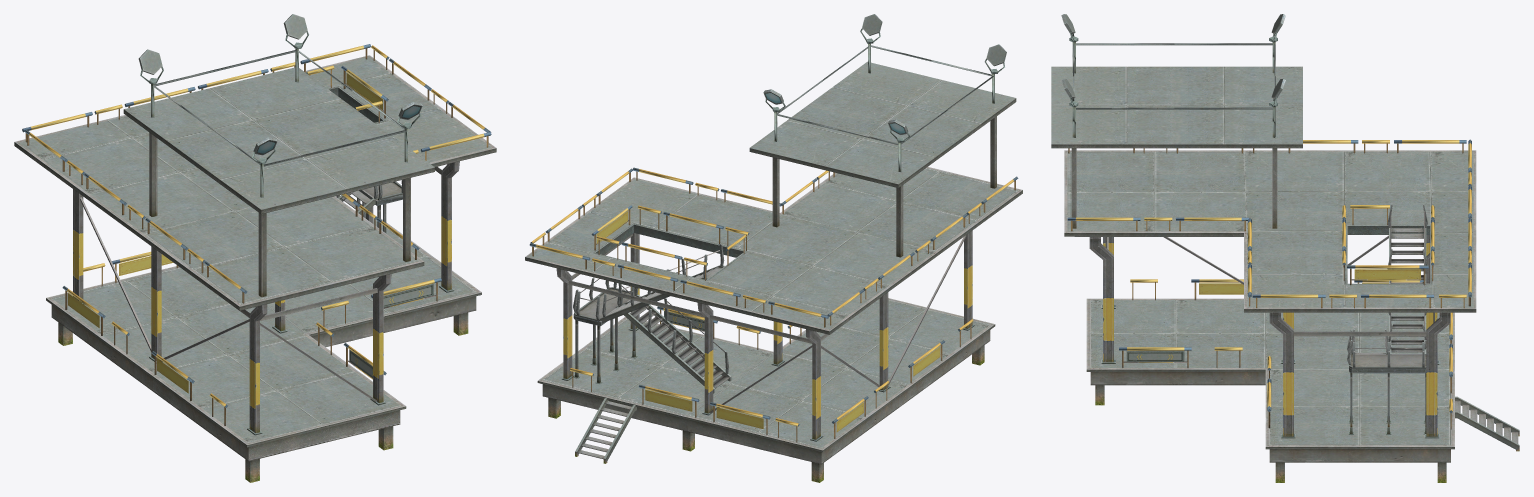
The model's file is Building_Mainexit02_lod1.glb.
3 views of the same model, side by side, from view 1: azimuth 30°, elevation 25°; view 2: azimuth 150°, elevation 25°; view 3: azimuth 270°, elevation 25° (orthographic). The views are drawn at different scales.
Visible parts, largest first — view 1: xiutz_mainexit_02_lod1; view 2: xiutz_mainexit_02_lod1; view 3: xiutz_mainexit_02_lod1.
Boxes of the visible parts, x1,y1,x2,y2 form: xiutz_mainexit_02_lod1: [14, 14, 496, 482]; xiutz_mainexit_02_lod1: [525, 14, 1022, 482]; xiutz_mainexit_02_lod1: [1051, 14, 1519, 482].
Size of the model in its own units: 19.67 by 18.95 by 24.52.
1 material, 1 textured.
